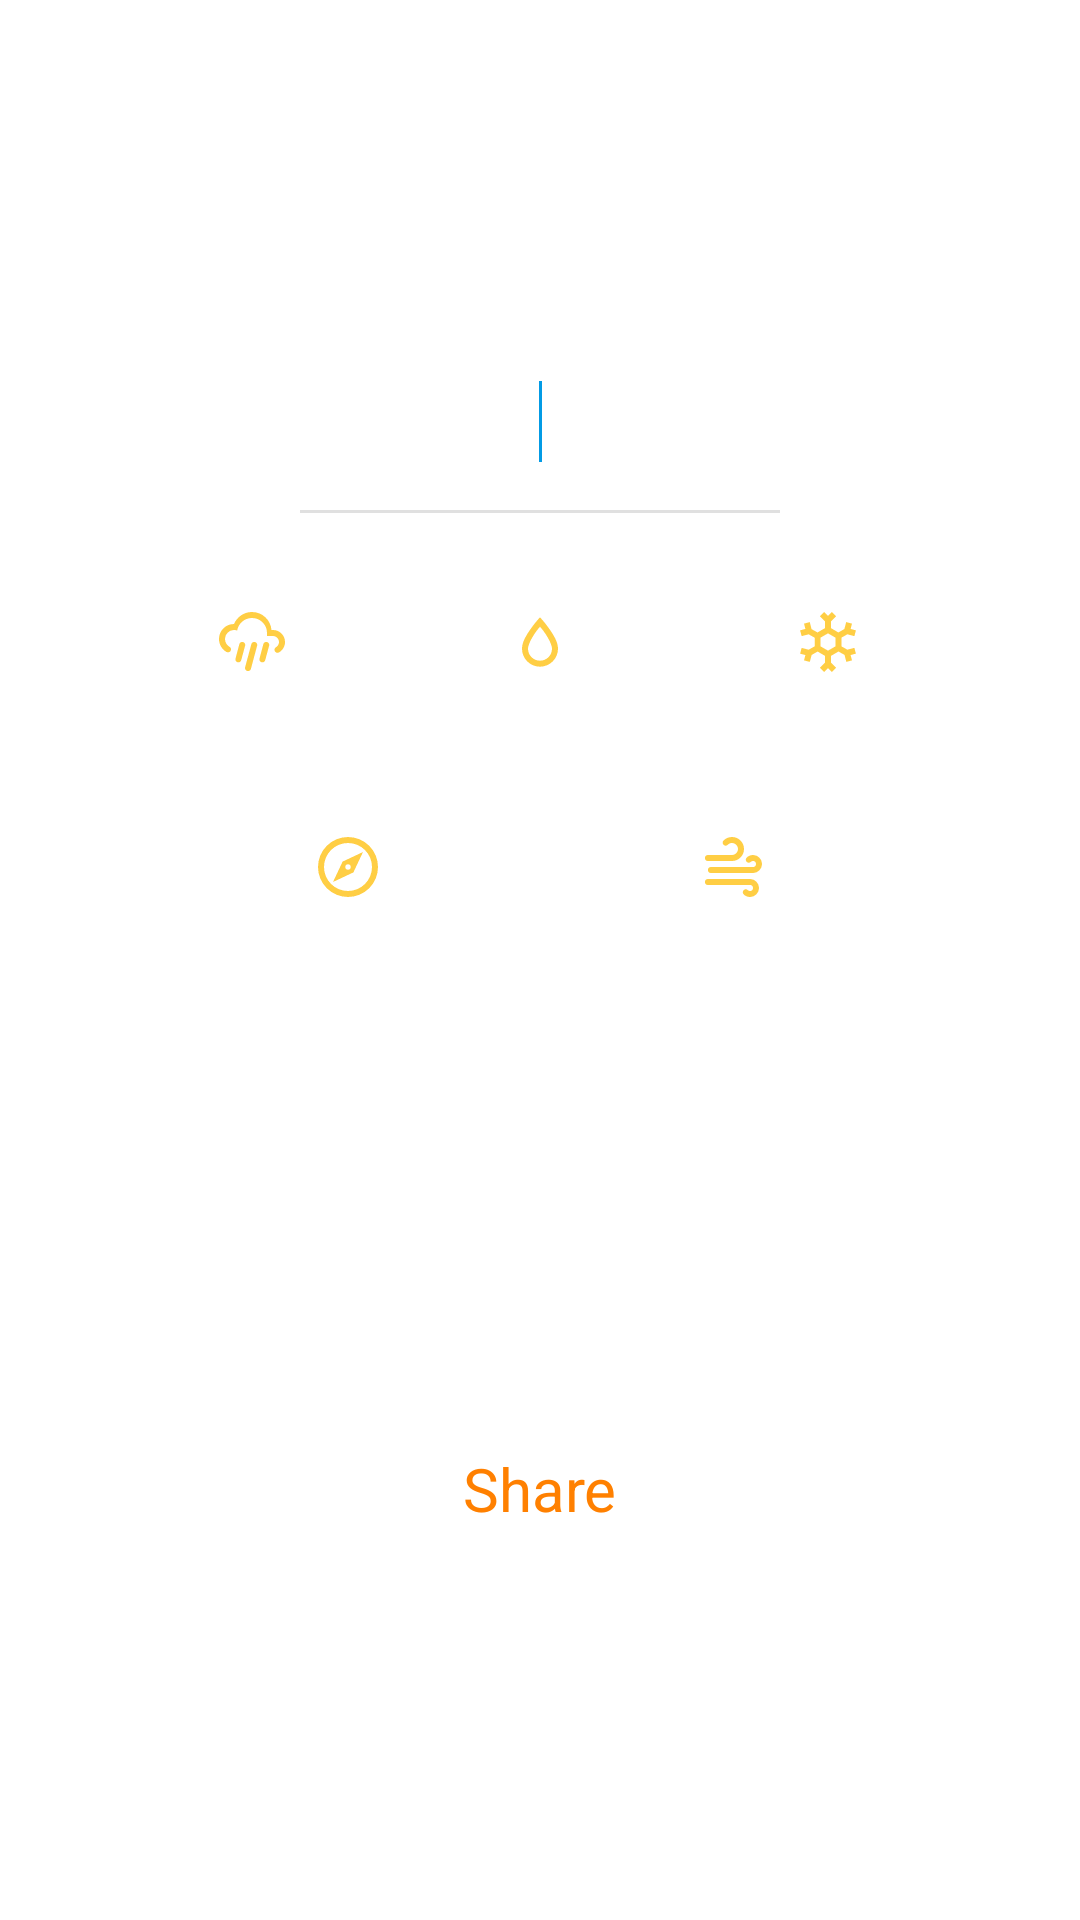

Icons on this 1080 x 1920 Android screen, each with its box as (x1, y1, x2, y2):
compass: (318, 837, 378, 897)
snowflake: (800, 612, 856, 672)
water: (522, 617, 558, 667)
weather pouring: (219, 612, 285, 671)
weather windy: (705, 837, 762, 897)
